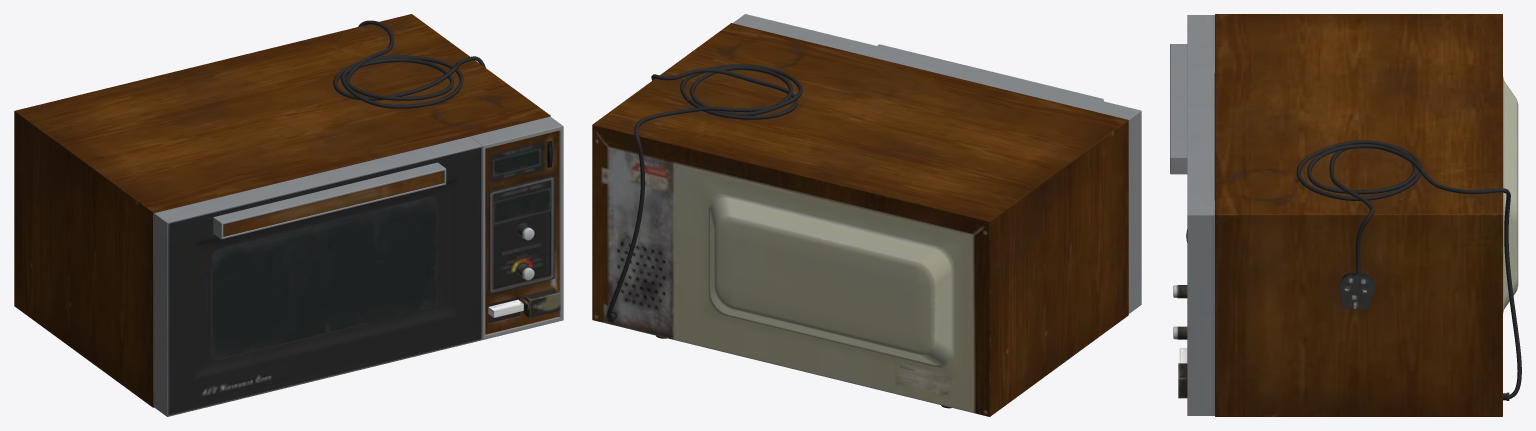
The model's file is vintage_microwave.glb.
3 views of the same model, side by side, from view 1: azimuth 30°, elevation 25°; view 2: azimuth 150°, elevation 25°; view 3: azimuth 270°, elevation 25° (orthographic). The views are drawn at different scales.
Parts seen in each view (by area): view 1: vintage_microwave; view 2: vintage_microwave; view 3: vintage_microwave.
Boxes of the visible parts, box(x1,y1,x2,y2) form: vintage_microwave: box(14, 14, 563, 416); vintage_microwave: box(592, 14, 1141, 416); vintage_microwave: box(1170, 14, 1521, 416).
Size of the model in its own units: 1.07 by 0.5258 by 0.7456.
2 materials, 2 textured.
